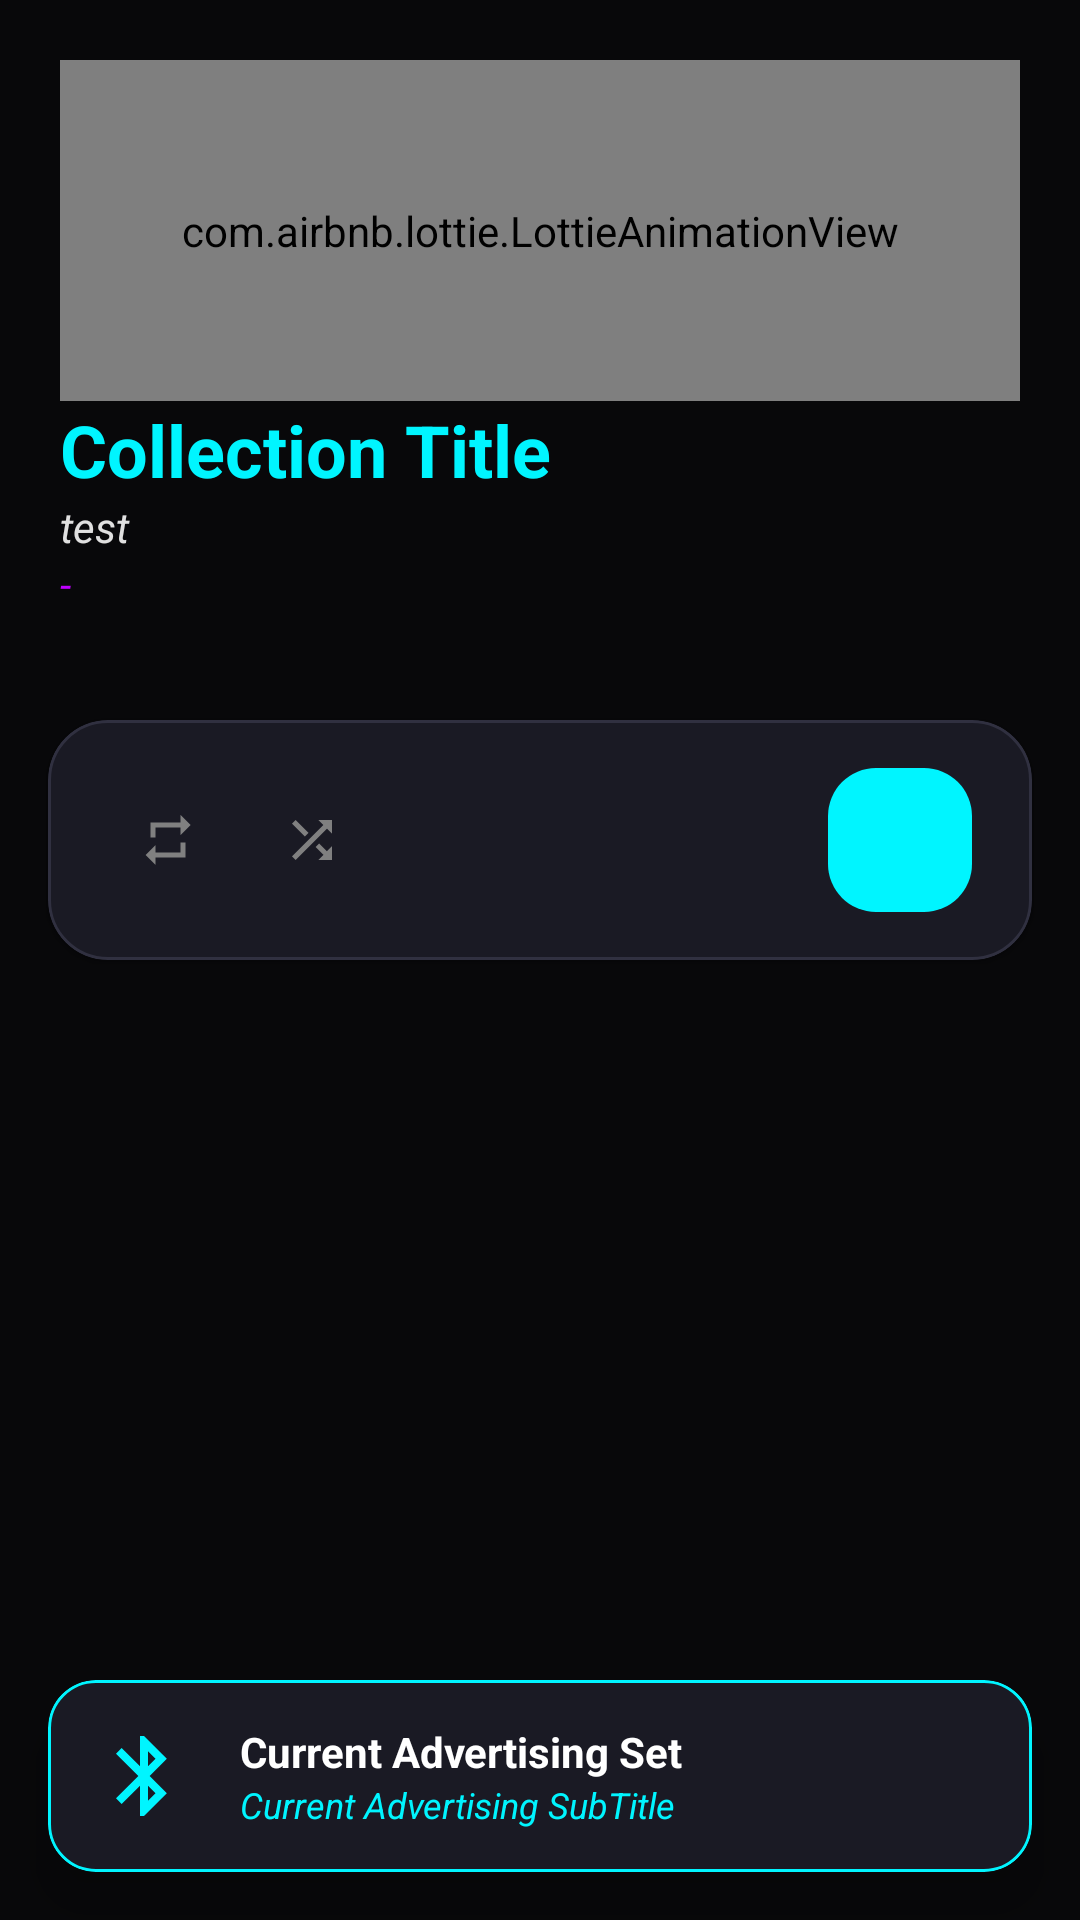

Icon bounding boxes for this 1080px×1920px phone screenshot, format (x1, y1, x2, y2):
repeat: (146, 815, 190, 865)
shuffle: (292, 820, 332, 860)
